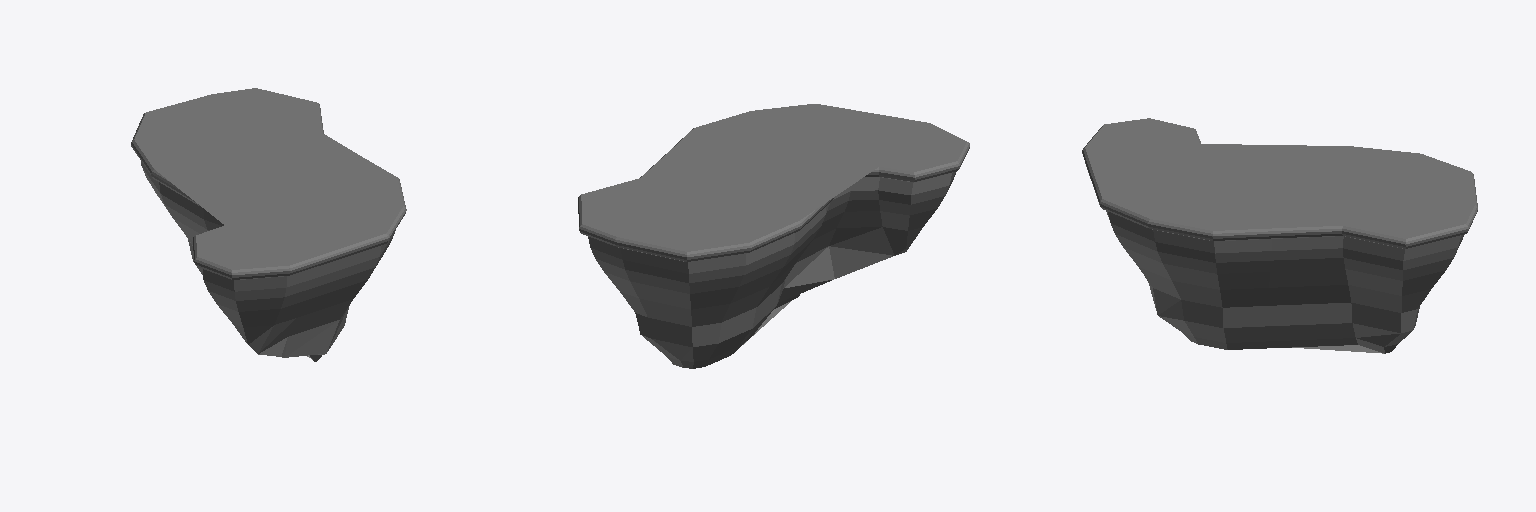
The model's file is islando2.obj.
3 renders of one model, left to right at view 1: azimuth 30°, elevation 25°; view 2: azimuth 150°, elevation 25°; view 3: azimuth 270°, elevation 25°, orthographic.
Parts seen in each view (by area): view 1: polySurface1; view 2: polySurface1; view 3: polySurface1.
Boxes of the visible parts, box(x1,y1,x2,y2) form: polySurface1: box(131, 88, 406, 361); polySurface1: box(578, 104, 969, 368); polySurface1: box(1082, 118, 1477, 353).
Bounding box in the file's own units: 180 × 105 × 243.